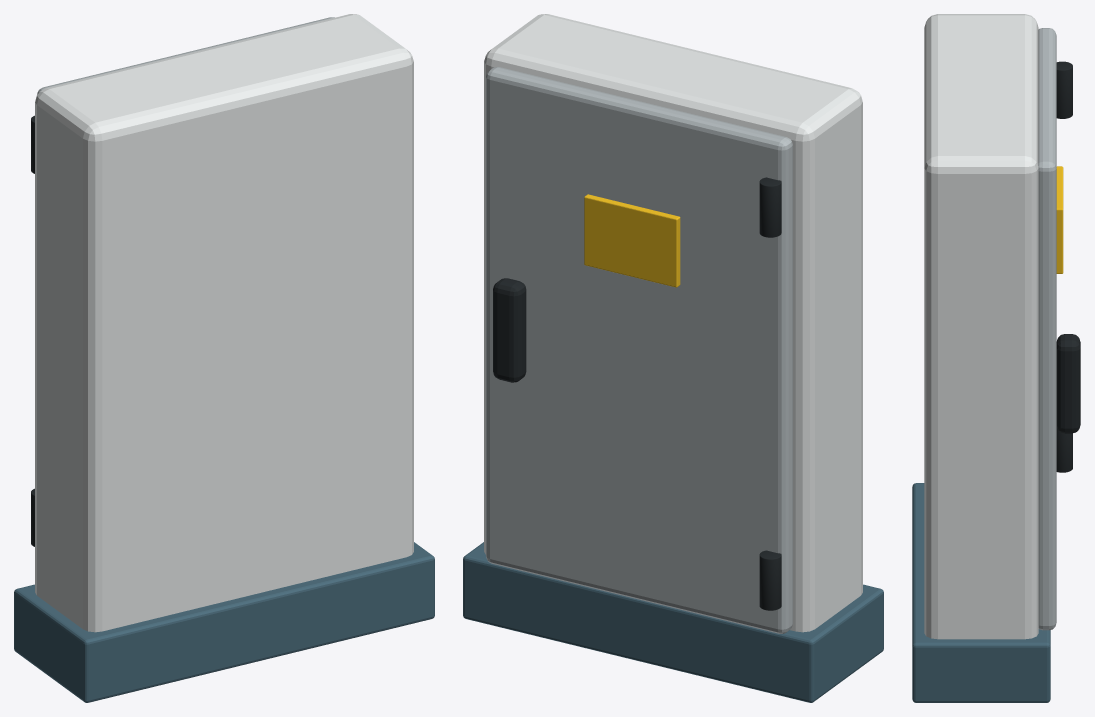
The model's file is floor_position_sensor.glb.
3 views of the same model, side by side, from view 1: azimuth 30°, elevation 25°; view 2: azimuth 150°, elevation 25°; view 3: azimuth 270°, elevation 25° (orthographic). The views are drawn at different scales.
Parts seen in each view (by area): view 1: ENCLOSURE_body, FLOOR_plinth, ENCLOSURE_door; view 2: ENCLOSURE_door, ENCLOSURE_body, FLOOR_plinth, DANGER_label, HANDLE, HINGE_0.42, HINGE_1.72; view 3: ENCLOSURE_body, ENCLOSURE_door, FLOOR_plinth, HANDLE, HINGE_1.72, DANGER_label, HINGE_0.42.
Part boxes in pixels (x1=…): ENCLOSURE_body: x1=35, y1=14, x2=413, y2=632; FLOOR_plinth: x1=14, y1=542, x2=434, y2=702; ENCLOSURE_door: x1=37, y1=17, x2=334, y2=94; ENCLOSURE_door: x1=486, y1=67, x2=792, y2=633; ENCLOSURE_body: x1=484, y1=14, x2=862, y2=632; FLOOR_plinth: x1=463, y1=542, x2=883, y2=702; DANGER_label: x1=584, y1=194, x2=680, y2=287; HANDLE: x1=493, y1=278, x2=526, y2=382; HINGE_0.42: x1=759, y1=550, x2=781, y2=610; HINGE_1.72: x1=759, y1=177, x2=781, y2=237; ENCLOSURE_body: x1=924, y1=14, x2=1038, y2=639; ENCLOSURE_door: x1=1038, y1=28, x2=1056, y2=630; FLOOR_plinth: x1=912, y1=483, x2=1050, y2=702; HANDLE: x1=1056, y1=334, x2=1080, y2=433; HINGE_1.72: x1=1056, y1=61, x2=1072, y2=118; DANGER_label: x1=1056, y1=166, x2=1063, y2=273; HINGE_0.42: x1=1056, y1=426, x2=1072, y2=472.
Size of the model in its own units: 1.28 by 2 by 0.56.
